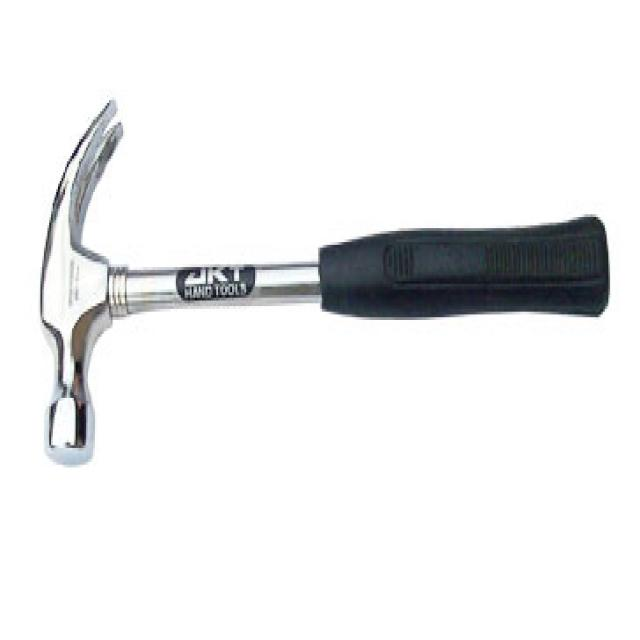Hammer: (28, 82, 614, 479)
